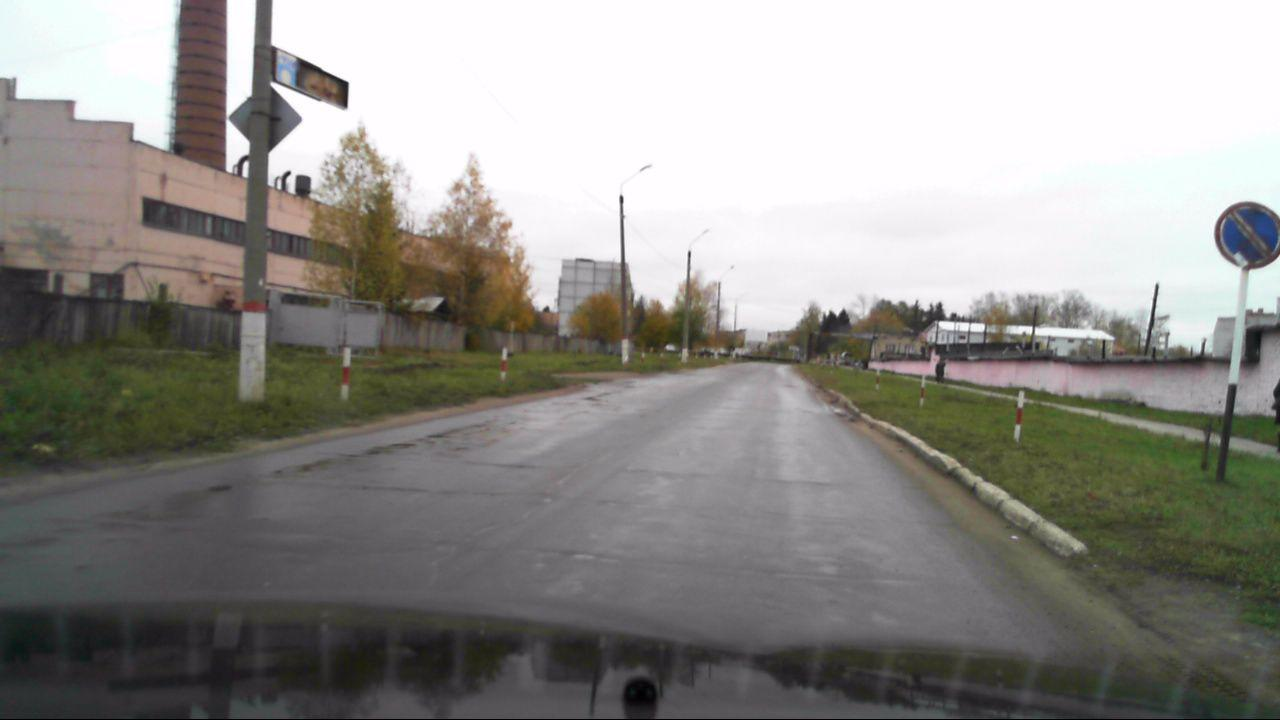obstructed_road_sign: (1217, 205, 1280, 268)
